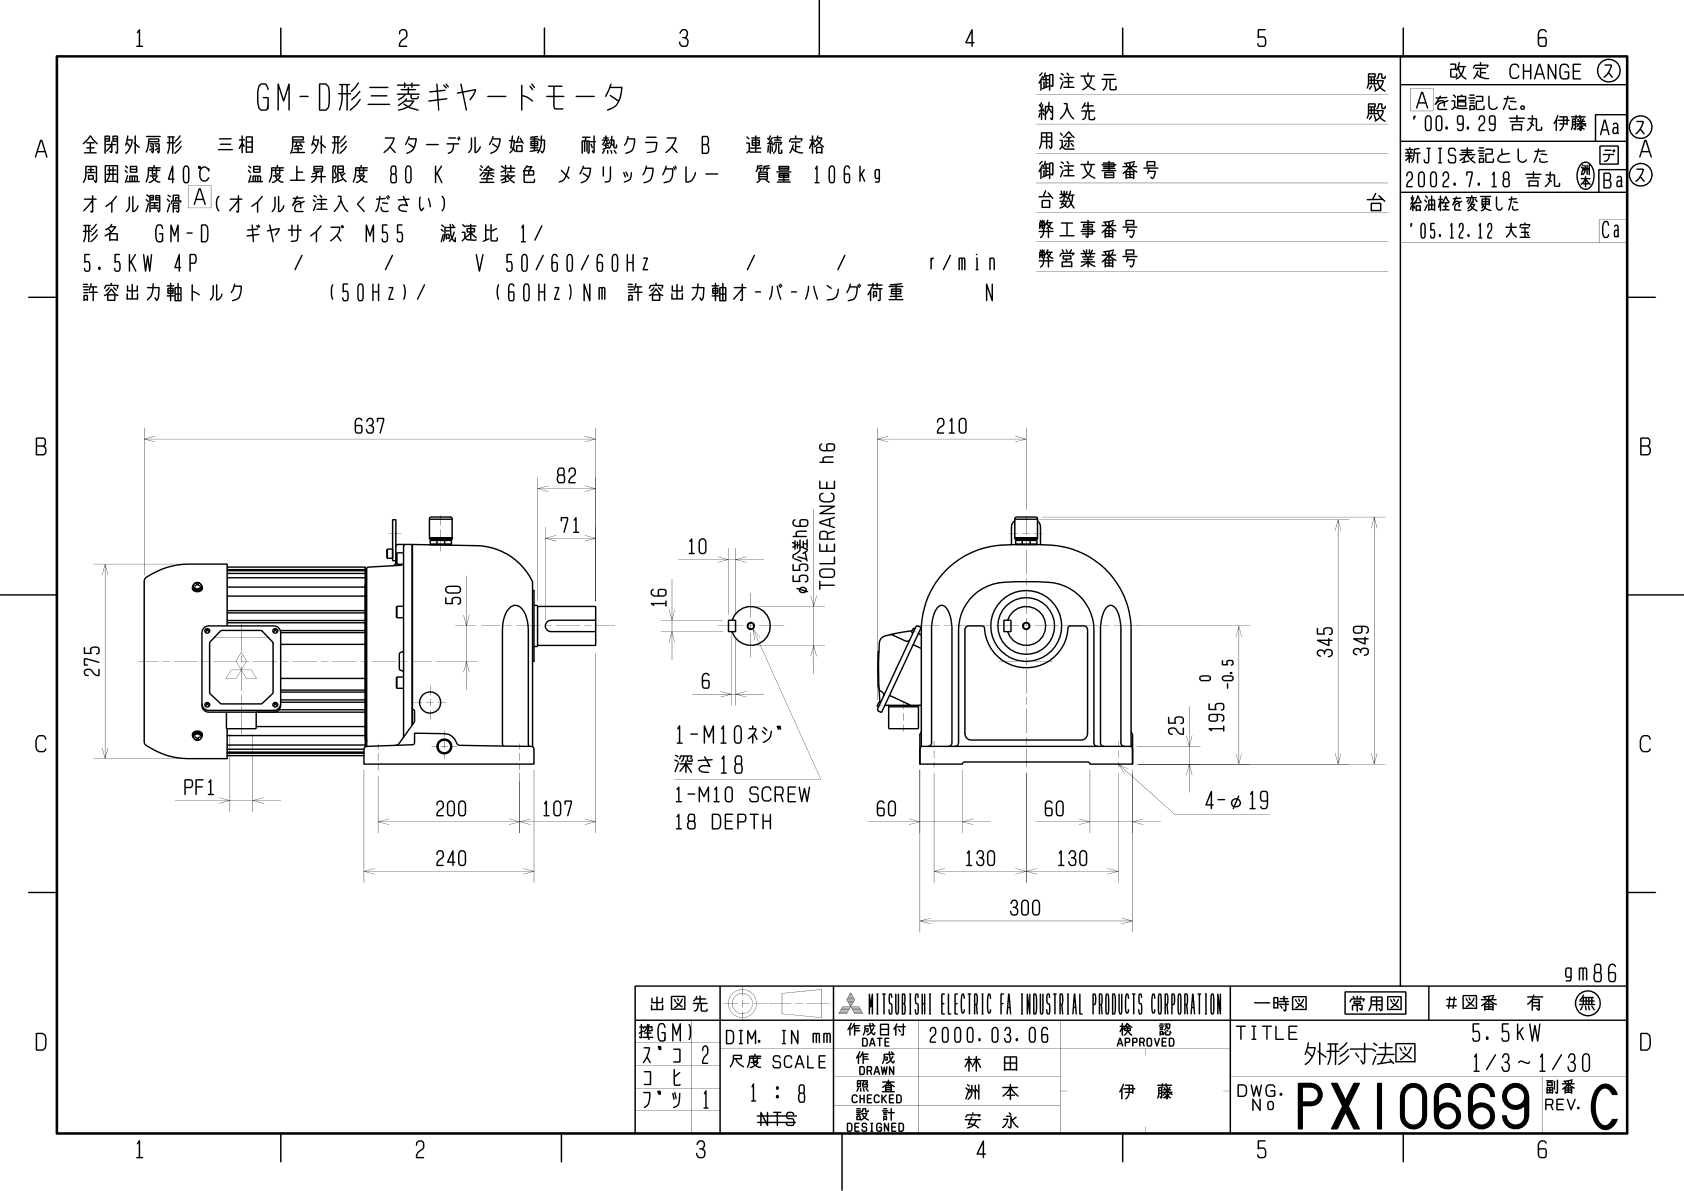GM_D_屋外＿三相_脚: (73, 361, 1392, 974)
